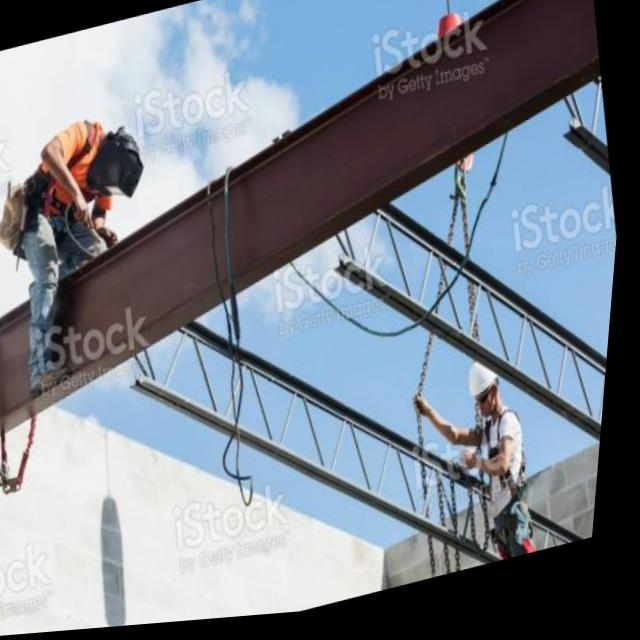belt: (17, 117, 136, 280), (472, 412, 562, 574)
